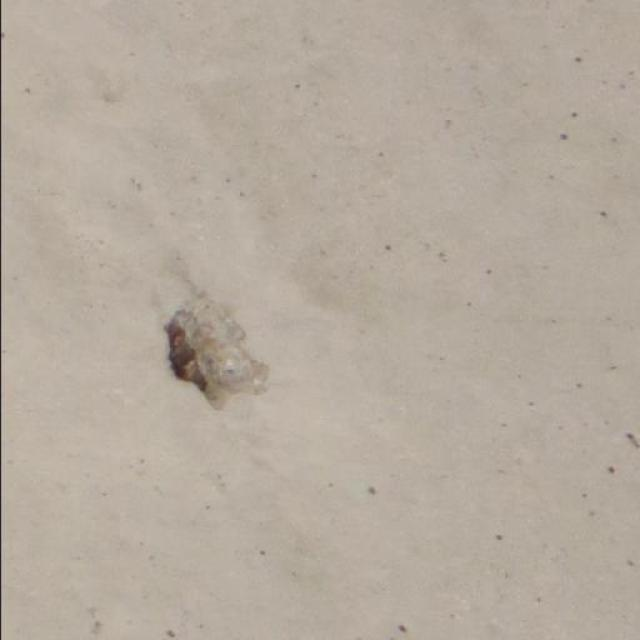D10: (162, 302, 266, 411)
